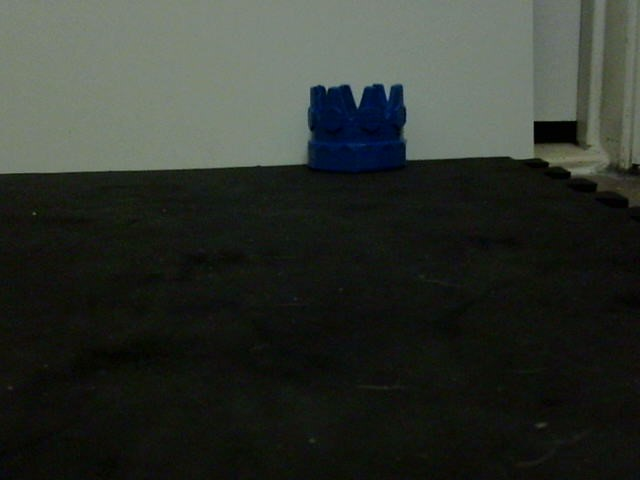crown: (305, 81, 409, 173)
